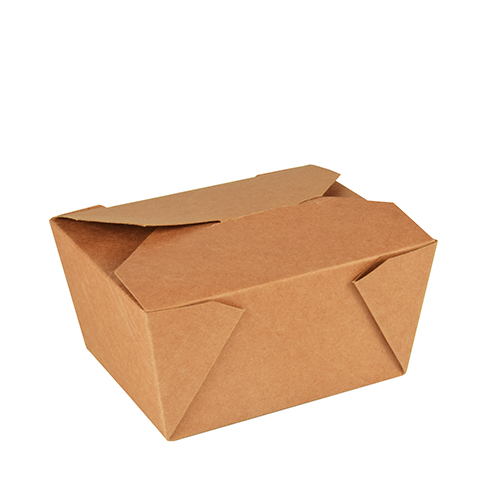Rec_Paper: (54, 156, 452, 446)
